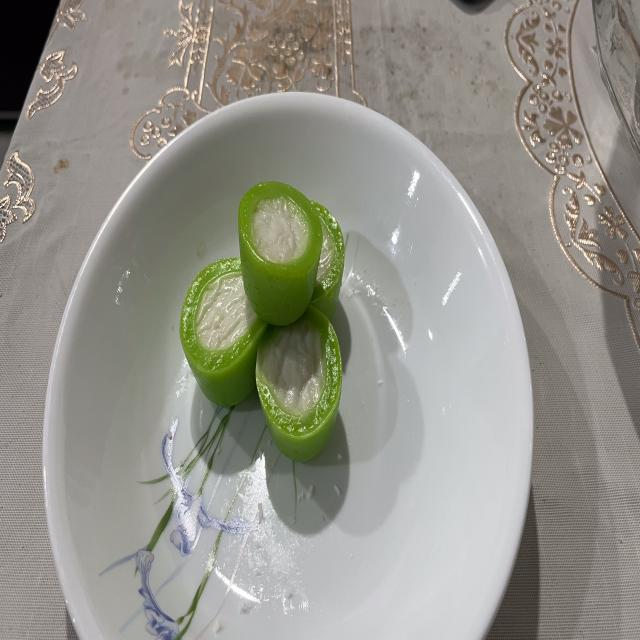nona-manis: (256, 307, 341, 460), (180, 258, 266, 407), (239, 182, 322, 324), (311, 202, 345, 320)
